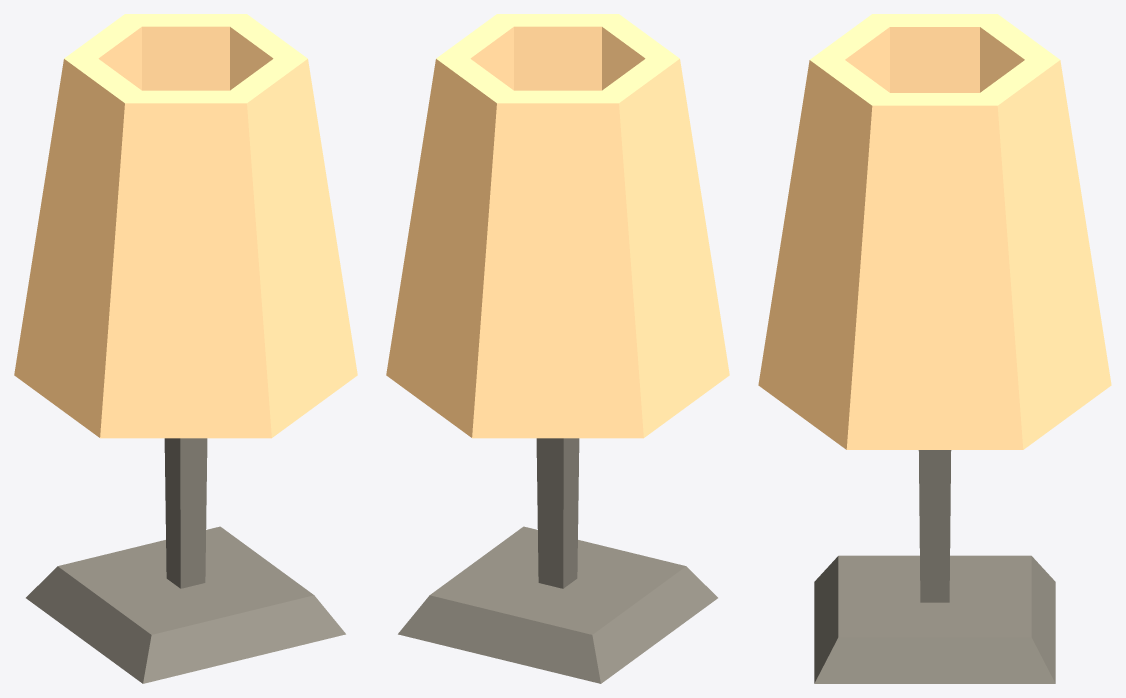
File: lampRoundTable.glb
3 views of the same model, side by side, from view 1: azimuth 30°, elevation 25°; view 2: azimuth 150°, elevation 25°; view 3: azimuth 270°, elevation 25° (orthographic). The views are drawn at different scales.
Parts seen in each view (by area): view 1: Mesh_lampRoundTable_1, Mesh_lampRoundTable; view 2: Mesh_lampRoundTable_1, Mesh_lampRoundTable; view 3: Mesh_lampRoundTable_1, Mesh_lampRoundTable.
Boxes of the visible parts, x1,y1,x2,y2 form: Mesh_lampRoundTable_1: (14, 14, 357, 438); Mesh_lampRoundTable: (26, 438, 345, 683); Mesh_lampRoundTable_1: (386, 14, 729, 438); Mesh_lampRoundTable: (398, 438, 717, 683); Mesh_lampRoundTable_1: (758, 14, 1111, 449); Mesh_lampRoundTable: (814, 450, 1055, 683).
Size of the model in its own units: 0.3041 by 0.6285 by 0.3511.
